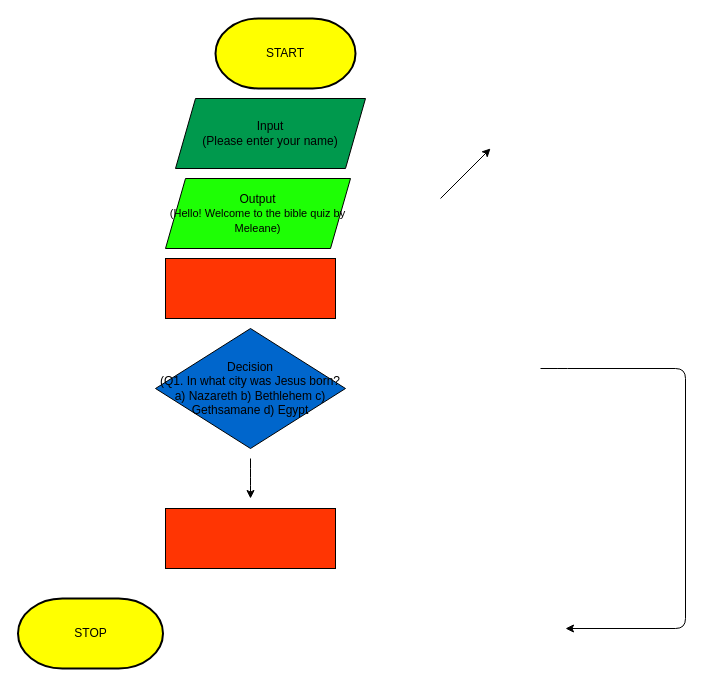
The diagram is 711 pixels wide and 686 high, and some of its shapes have lost their labels. The shapes that lost their labels are listed below. From the top down, each one's box as (x1, y1, x2, y2) in pixels, then its label:
(164, 258, 336, 318): Score = 0
(164, 508, 336, 568): A)
